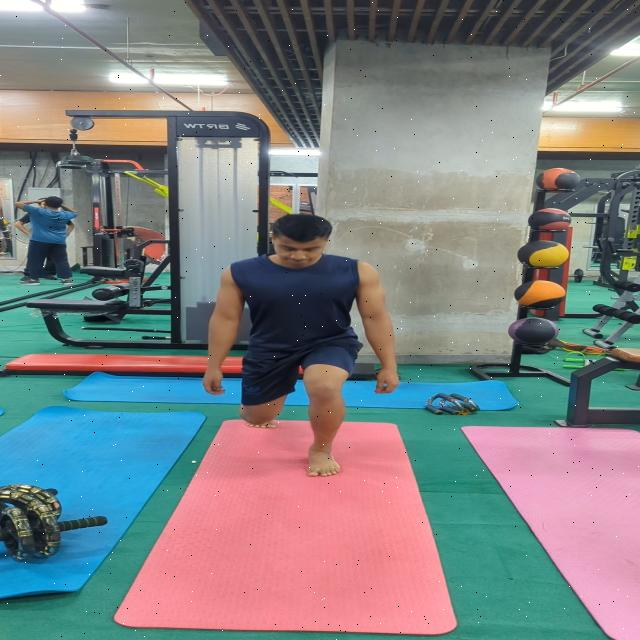Normal_Lunges: (195, 209, 402, 481)
